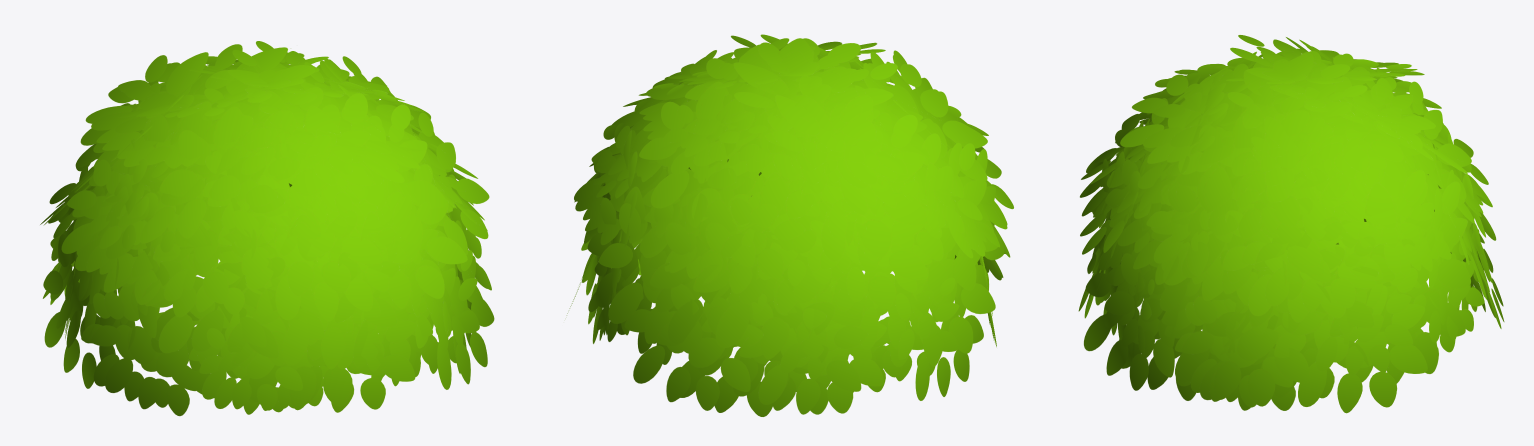
The model's file is Bush.glb.
3 views of the same model, side by side, from view 1: azimuth 30°, elevation 25°; view 2: azimuth 150°, elevation 25°; view 3: azimuth 270°, elevation 25° (orthographic). The views are drawn at different scales.
Visible parts, largest first — view 1: Bush; view 2: Bush; view 3: Bush.
Part boxes in pixels (box(x1,y1,x2,y2)): Bush: box(40, 41, 494, 416); Bush: box(566, 34, 1013, 416); Bush: box(1078, 35, 1504, 413).
Bounding box in the file's own units: 1.09 × 0.6916 × 1.05.
1 material, 1 textured.
